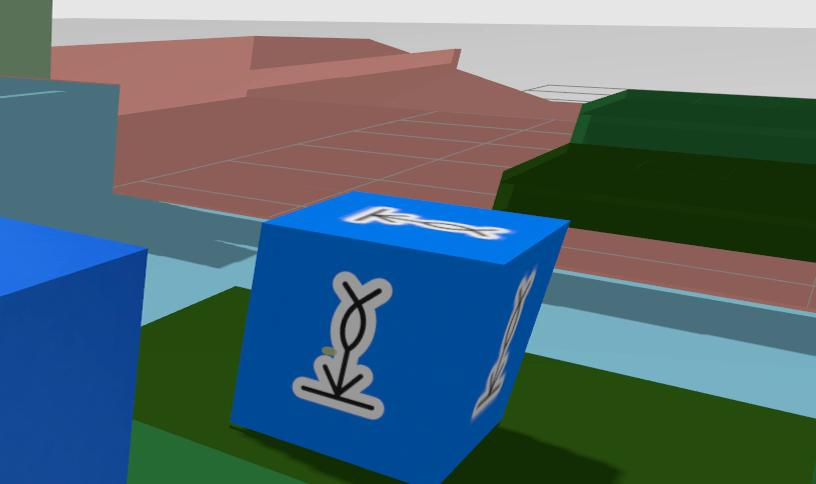KFS_REAL: (231, 192, 567, 484), (0, 217, 145, 484), (293, 271, 391, 419)
